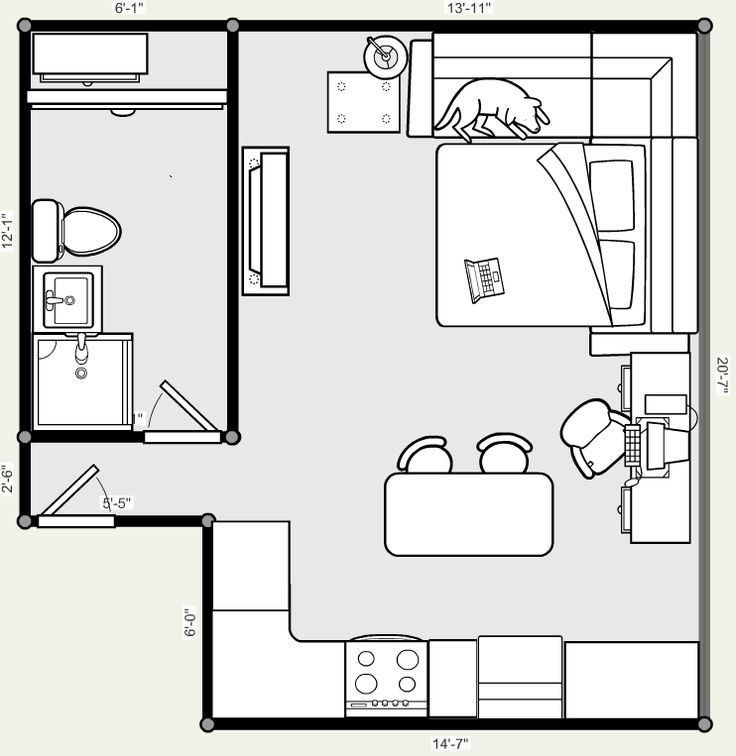door: (143, 373, 226, 453), (35, 460, 122, 534)
room: (230, 17, 716, 734), (12, 16, 242, 449), (22, 436, 254, 520), (207, 521, 248, 739)
wall: (679, 13, 732, 755), (191, 697, 736, 744), (11, 17, 736, 38), (13, 19, 37, 530), (218, 17, 246, 449), (194, 509, 236, 756), (14, 416, 145, 456), (113, 508, 218, 535)
